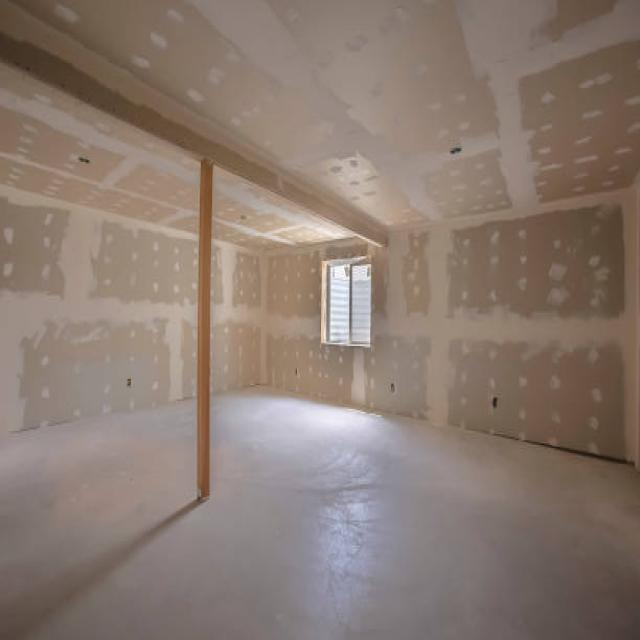floor: (0, 383, 640, 640)
wall: (264, 190, 640, 470), (0, 185, 198, 439), (210, 239, 266, 393)
